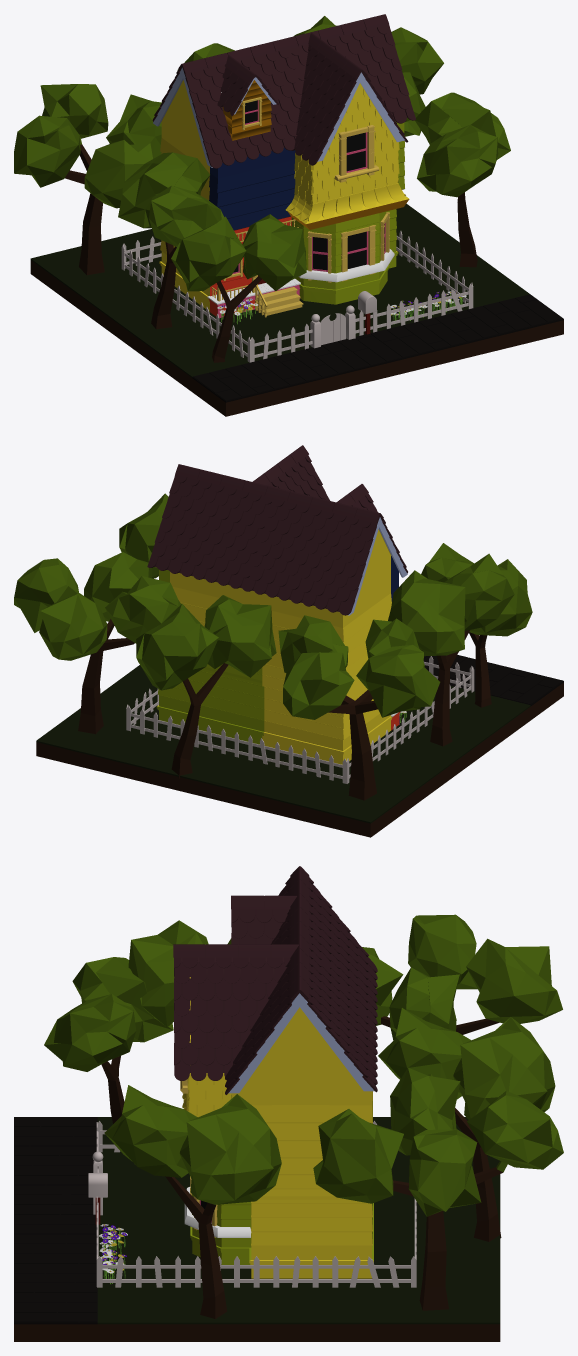
The model's file is 05_House.FBX.
The picture shows the model from 3 angles, top to bottom: view 1: azimuth 30°, elevation 25°; view 2: azimuth 150°, elevation 25°; view 3: azimuth 270°, elevation 25°; orthographic projection. The views are drawn at different scales.
Visible parts, largest first — view 1: Box230, Box231, Tree 2, Box001, Tree 007, Tree 005, Tree 004, Object050, Object044, Box085, Tree 003, Group071 (+13 smaller); view 2: Box230, Box085, Tree 003, Tree 2, Tree 006, Box001, Tree 004, Object044, Tree 007, Box231, Group071, Group072 (+7 smaller); view 3: Box230, Box085, Tree 003, Box231, Tree 2, Tree 005, Tree 006, Box001, Tree 007, Tree 004, Group072, Group074 (+9 smaller).
Part boxes in pixels (left/top/right/bottom): Box230: left=30, top=203, right=529, bottom=377; Box231: left=192, top=294, right=563, bottom=402; Tree 2: left=14, top=84, right=161, bottom=208; Box001: left=30, top=260, right=563, bottom=416; Tree 007: left=171, top=214, right=306, bottom=291; Tree 005: left=415, top=92, right=510, bottom=197; Tree 004: left=118, top=152, right=224, bottom=246; Object050: left=209, top=147, right=295, bottom=230; Object044: left=291, top=211, right=389, bottom=304; Box085: left=159, top=80, right=397, bottom=311; Tree 003: left=293, top=16, right=443, bottom=136; Group071: left=65, top=144, right=104, bottom=275; Box230: left=36, top=665, right=530, bottom=823; Box085: left=157, top=529, right=392, bottom=764; Tree 003: left=14, top=552, right=180, bottom=660; Tree 2: left=278, top=615, right=440, bottom=719; Tree 006: left=136, top=595, right=276, bottom=690; Box001: left=36, top=682, right=563, bottom=837; Tree 004: left=388, top=553, right=514, bottom=656; Object044: left=178, top=664, right=264, bottom=744; Tree 007: left=421, top=543, right=532, bottom=636; Box231: left=423, top=655, right=563, bottom=706; Group071: left=328, top=690, right=377, bottom=800; Group072: left=78, top=619, right=134, bottom=734; Box230: left=97, top=1117, right=500, bottom=1324; Box085: left=231, top=1007, right=373, bottom=1278; Tree 003: left=313, top=1067, right=563, bottom=1216; Box231: left=14, top=1117, right=97, bottom=1324; Tree 2: left=362, top=914, right=562, bottom=1040; Tree 005: left=104, top=1085, right=281, bottom=1204; Tree 006: left=378, top=1008, right=555, bottom=1119; Box001: left=14, top=1324, right=500, bottom=1341; Tree 007: left=44, top=957, right=173, bottom=1071; Tree 004: left=128, top=920, right=231, bottom=1027; Group072: left=393, top=1167, right=502, bottom=1310; Group074: left=165, top=1176, right=226, bottom=1318.
Size of what is drawn, in the model's own units: 623 by 356 by 566.
